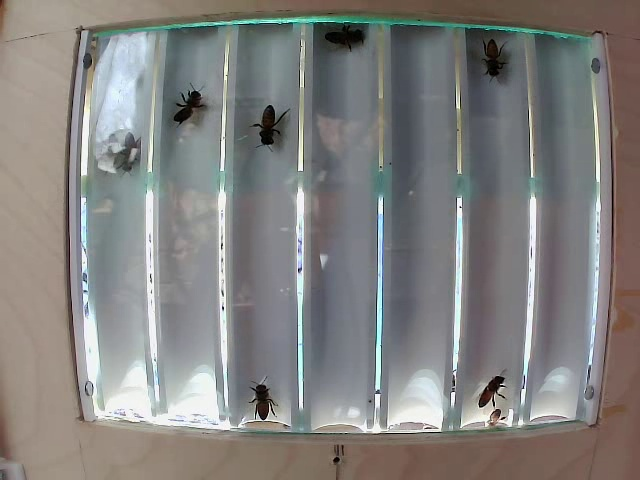bee: (106, 124, 167, 177), (243, 98, 290, 157), (169, 76, 201, 135), (474, 36, 510, 87), (319, 23, 361, 64)
